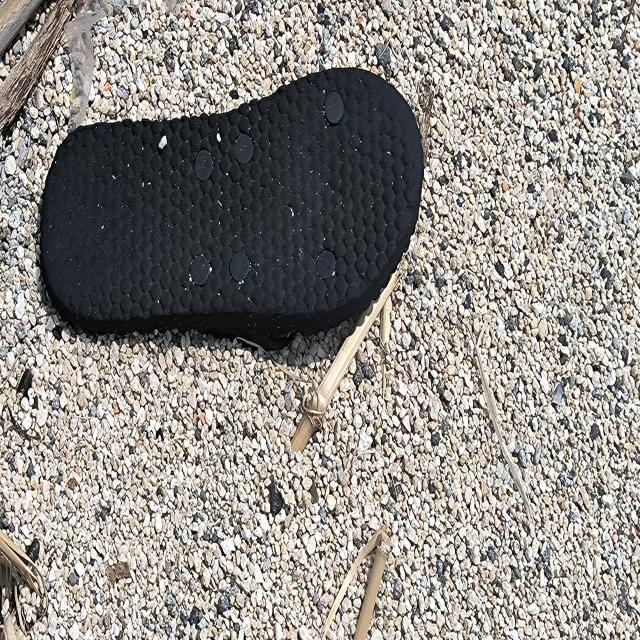rubber_waste: (41, 67, 425, 337)
